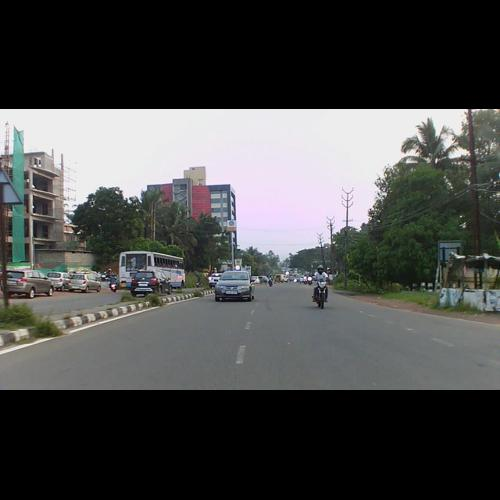car: (1, 268, 57, 300), (126, 269, 171, 299), (212, 273, 256, 302), (67, 273, 101, 294)
